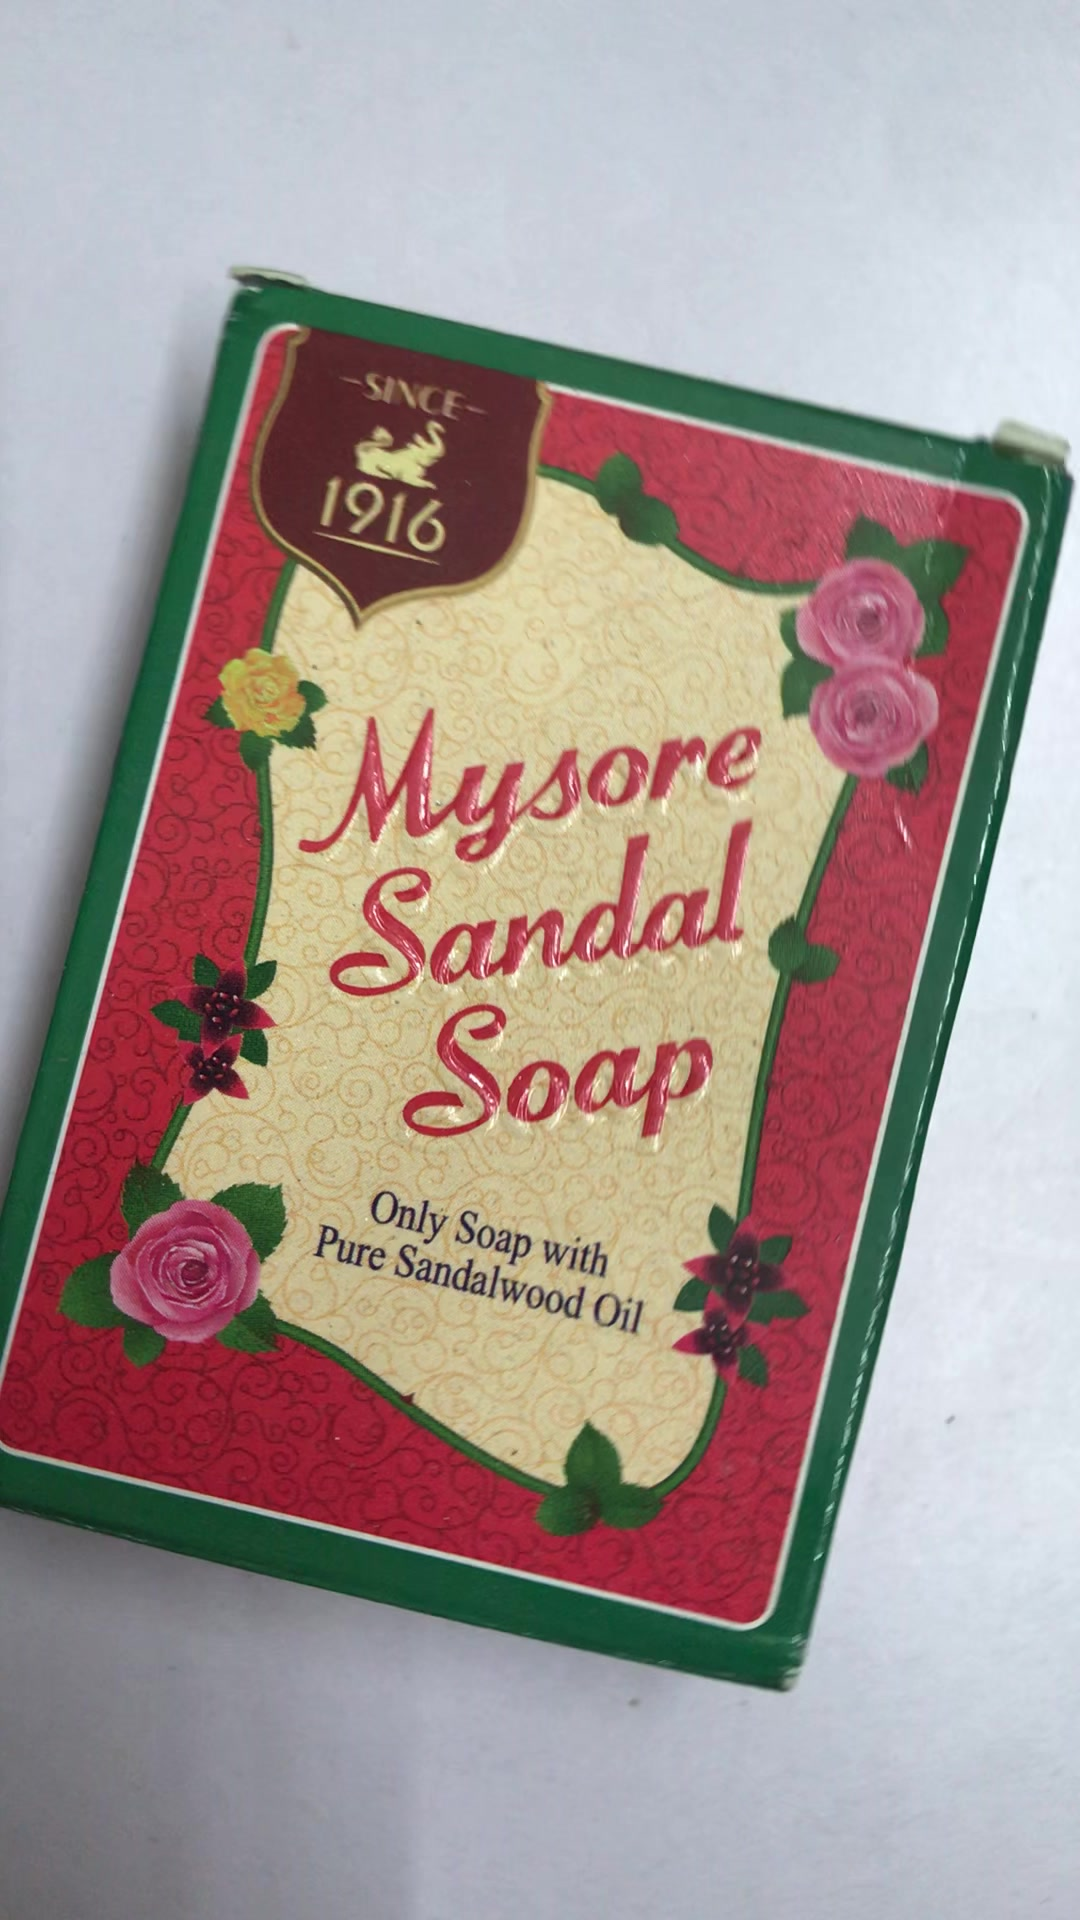mysore sandal soap: (11, 266, 1073, 1691)
